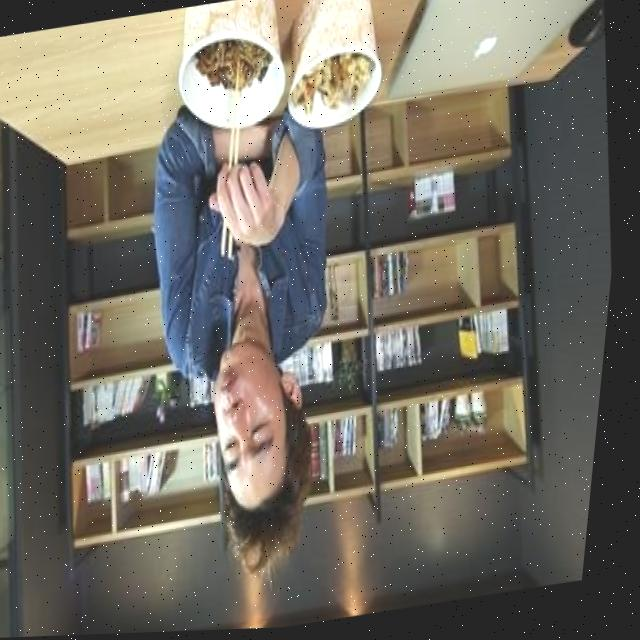eating-person: (92, 0, 458, 612)
